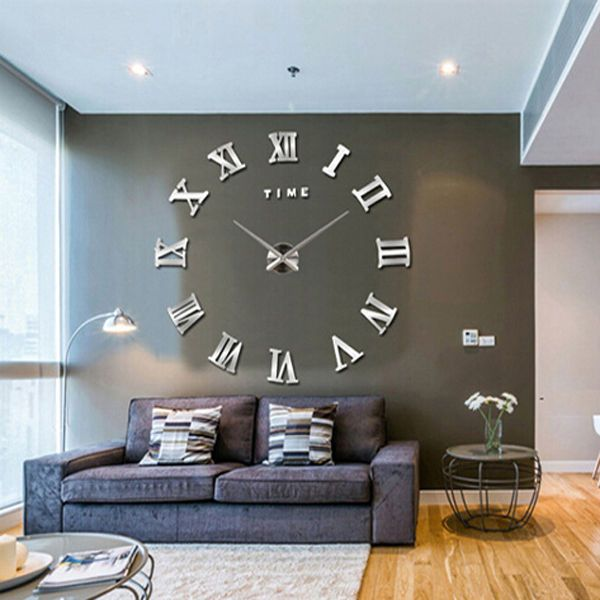clock: (154, 132, 413, 387)
